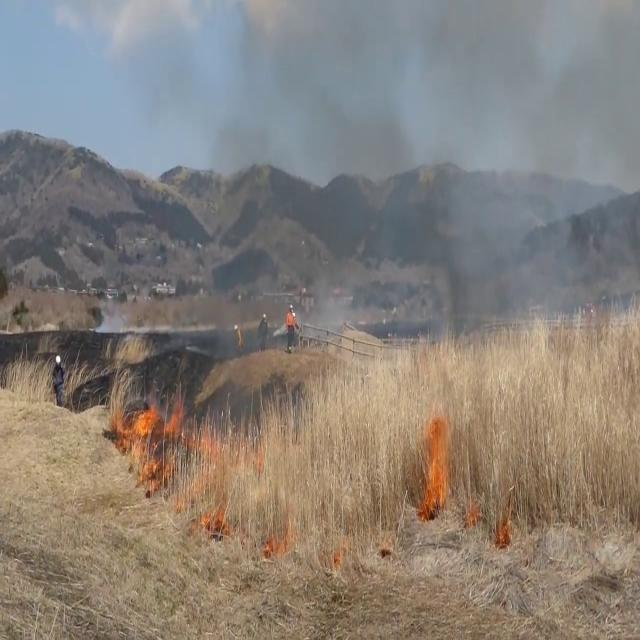Fire: (120, 390, 186, 458), (420, 400, 454, 516)
Smoke: (295, 1, 640, 352)
